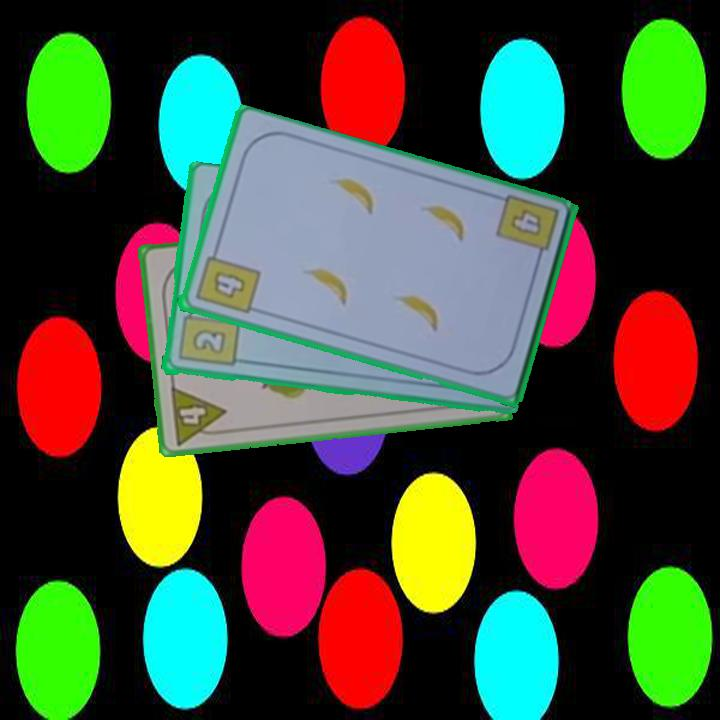2b: (175, 303, 241, 370)
4b: (191, 243, 262, 317), (506, 206, 545, 240)
4p: (167, 383, 231, 448)
